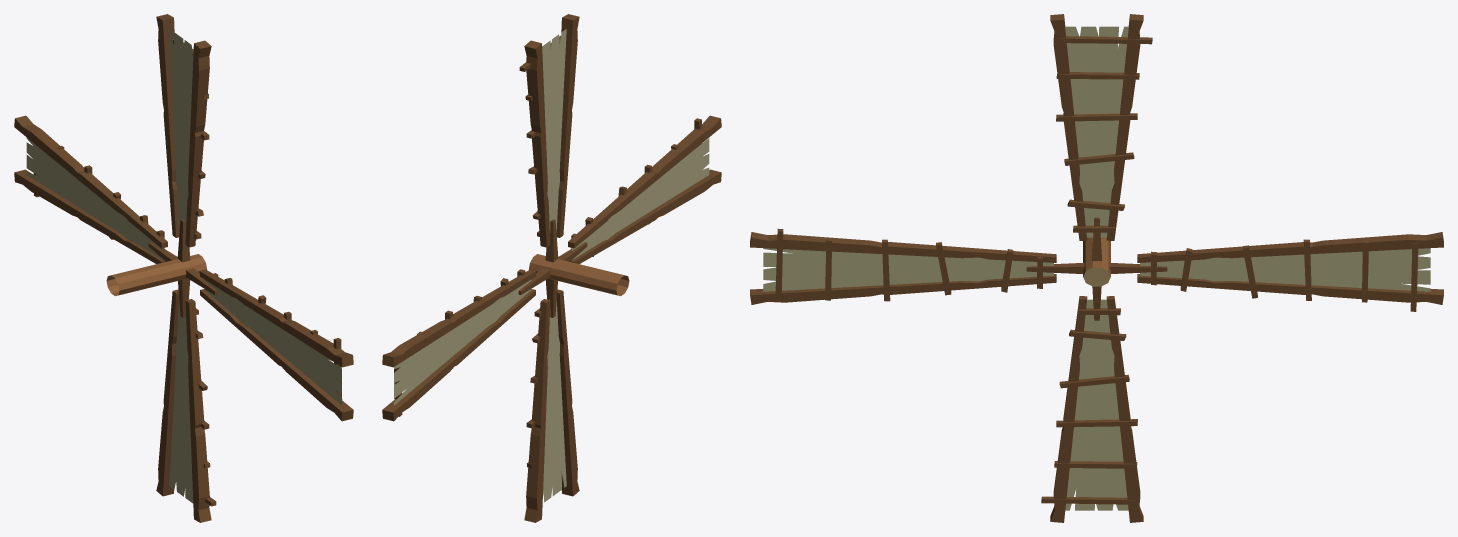
The model's file is mill_blades.002_lev2.glb.
3 views of the same model, side by side, from view 1: azimuth 30°, elevation 25°; view 2: azimuth 150°, elevation 25°; view 3: azimuth 270°, elevation 25° (orthographic). The views are drawn at different scales.
Visible parts, largest first — view 1: mill_blades.002_lev2; view 2: mill_blades.002_lev2; view 3: mill_blades.002_lev2.
Part boxes in pixels (x1,y1,x2,y2): mill_blades.002_lev2: (14,14,353,522); mill_blades.002_lev2: (382,14,721,522); mill_blades.002_lev2: (750,14,1443,522).
Bounding box in the file's own units: 1.29 × 6.72 × 8.4.
